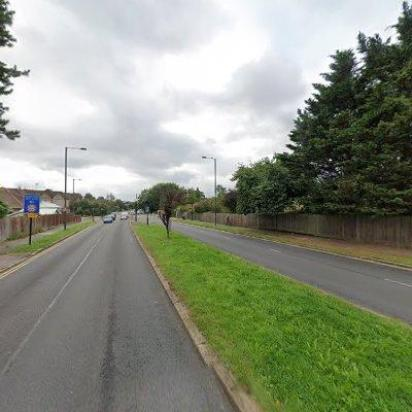moving-car: (102, 214, 114, 224)
moving-light-truck: (110, 212, 118, 220), (120, 213, 127, 221)
